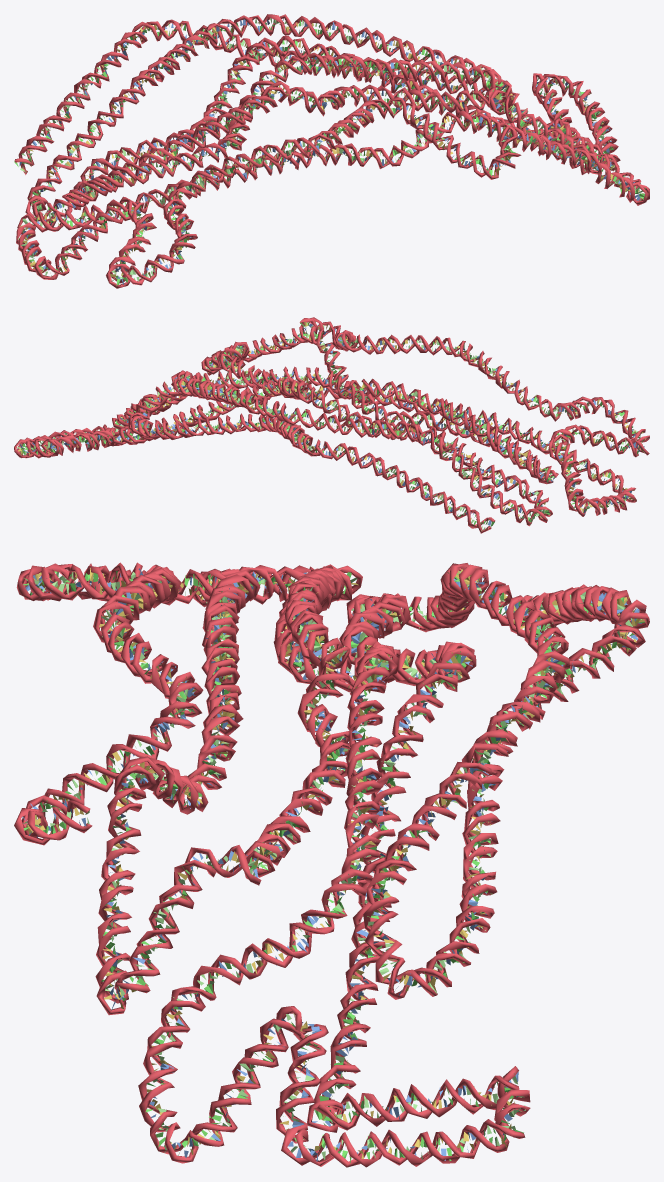
The model's file is bigdnaseq2.fbx.
3 renders of one model, top to bottom at view 1: azimuth 30°, elevation 25°; view 2: azimuth 150°, elevation 25°; view 3: azimuth 270°, elevation 25°, orthographic. The views are drawn at different scales.
Parts seen in each view (by area): view 1: BezierCurve.005; view 2: BezierCurve.005; view 3: BezierCurve.005.
Part boxes in pixels (x1,y1,x2,y2): BezierCurve.005: [14, 14, 649, 288]; BezierCurve.005: [14, 317, 649, 533]; BezierCurve.005: [14, 562, 649, 1167].
Size of the model in its own units: 8146 by 2137 by 4301.
